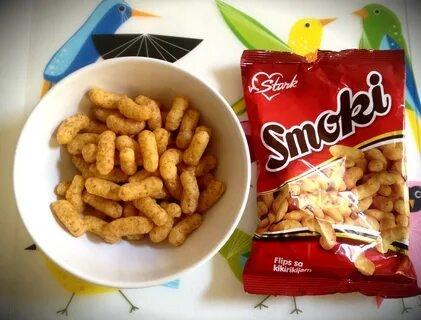snack: (241, 48, 421, 299)
